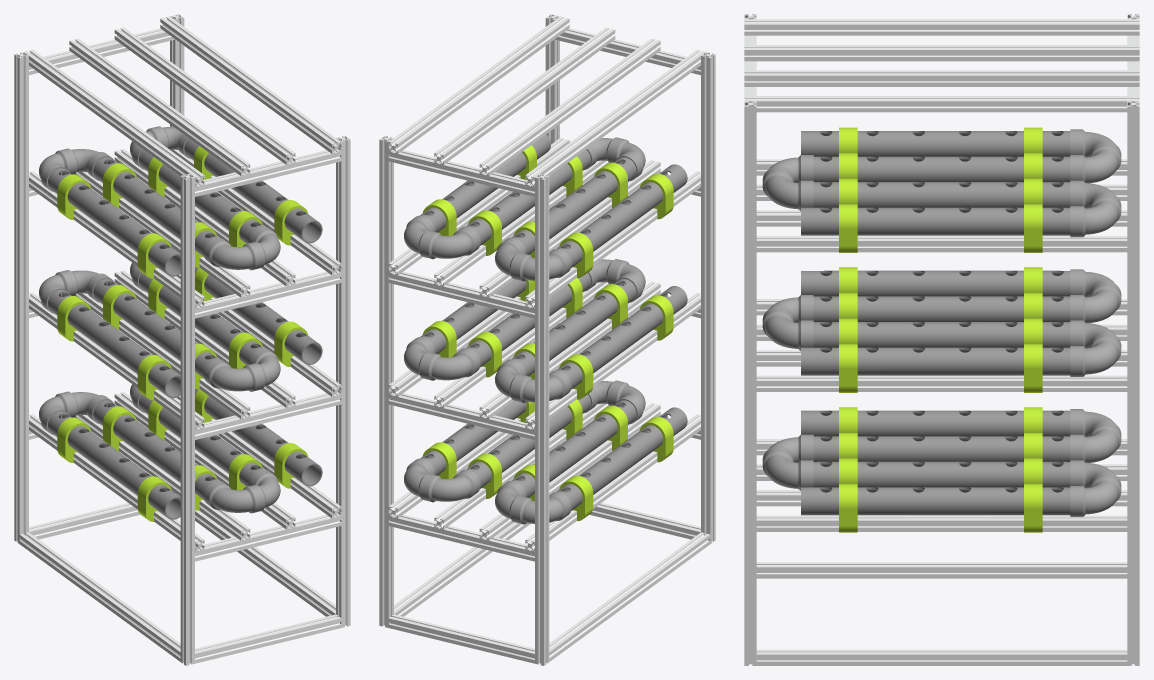
Rendered from assembly-v4.glb.
3 renders of one model, left to right at view 1: azimuth 30°, elevation 25°; view 2: azimuth 150°, elevation 25°; view 3: azimuth 270°, elevation 25°, orthographic. The views are drawn at different scales.
Visible parts, largest first — view 1: Body85, Body83, Body84, Body109, Body103, Body106, Body28, Body29, Body1, Body100, Body116, Body30 (+56 smaller); view 2: Body83, Body85, Body82, Body109, Body103, Body106, Body100, Body116, Body28, Body1, Body29, Body31 (+62 smaller); view 3: Body82, Body84, Body4, Body34, Body35, Body100, Body103, Body106, Body109, Body116, Body117, Body1 (+38 smaller).
Part boxes in pixels (x1,y1,x2,y2): Body85: (180,173,194,665); Body83: (14,52,28,543); Body84: (336,135,350,627); Body109: (160,16,341,153); Body103: (69,38,250,175); Body106: (114,27,295,164); Body28: (48,290,180,398); Body29: (48,168,180,276); Body1: (48,411,180,519); Body100: (24,49,204,187); Body116: (19,532,180,661); Body30: (93,278,218,378); Body83: (535,173,549,665); Body85: (701,52,715,543); Body82: (379,135,393,627); Body109: (388,16,569,153); Body103: (479,38,660,175); Body106: (434,27,615,164); Body100: (525,49,705,187); Body116: (549,532,710,661); Body28: (557,286,687,389); Body1: (557,407,687,510); Body29: (557,164,687,267); Body31: (511,157,636,254); Body82: (1127,101,1139,665); Body84: (744,101,756,665); Body4: (801,487,1070,515); Body34: (801,347,1070,375); Body35: (801,207,1070,235); Body100: (744,19,1139,35); Body103: (744,45,1139,61); Body106: (744,70,1139,86); Body109: (744,96,1139,112); Body116: (756,562,1127,578); Body117: (756,649,1127,665); Body1: (801,410,1070,436).
Bounding box in the file's own units: 0.71 × 2 × 1.28.
